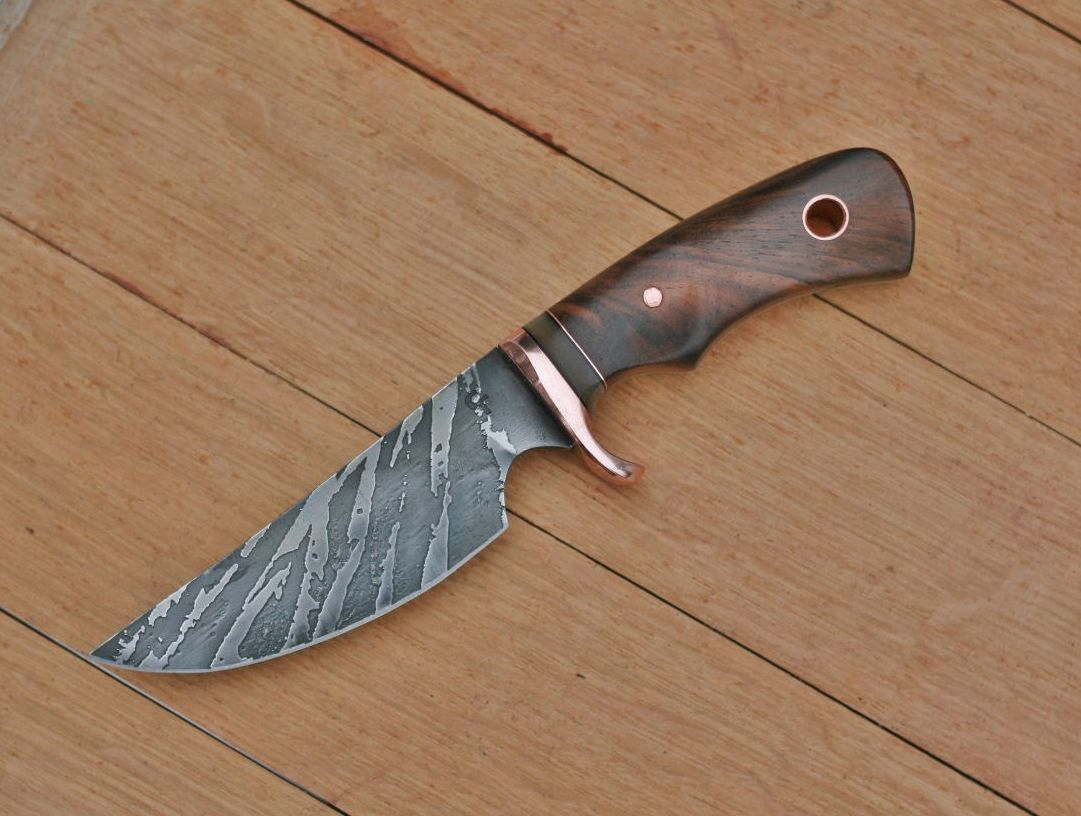knife: (68, 131, 925, 709)
